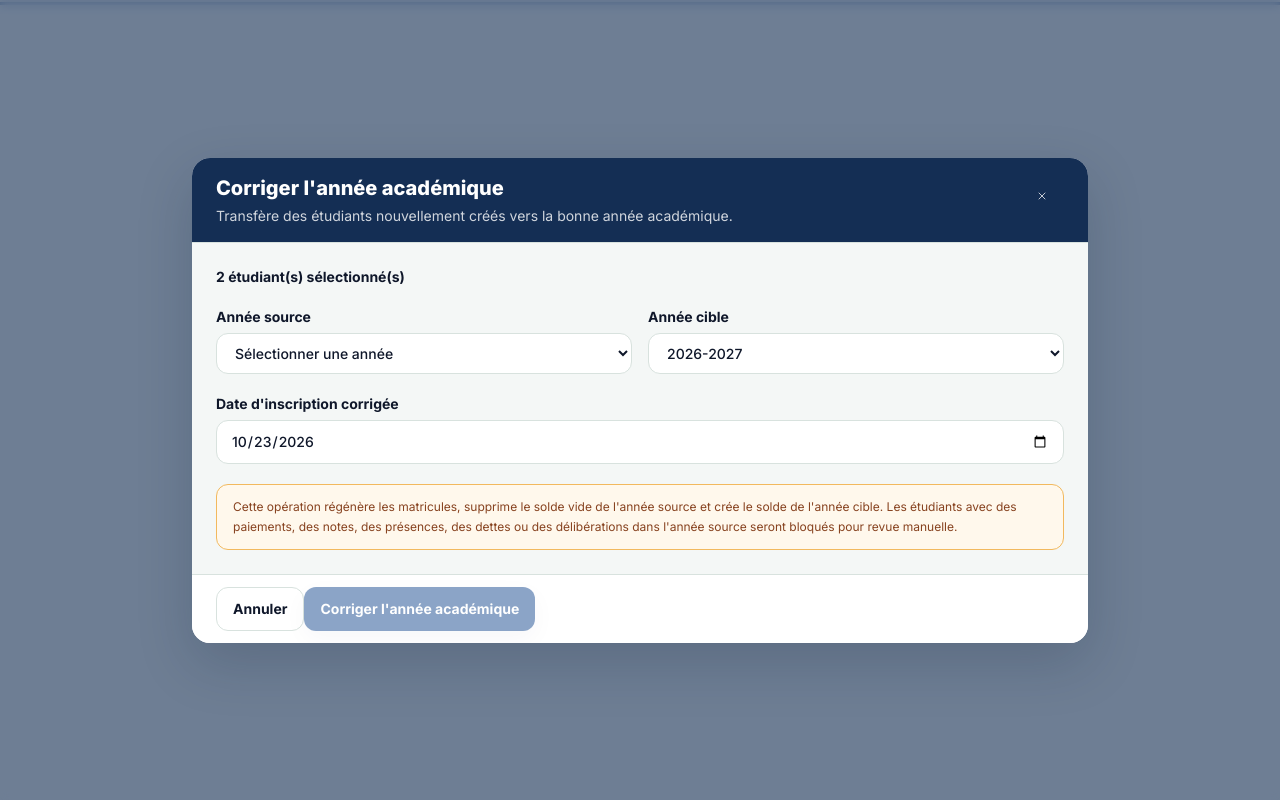
Scenario: AcademicYearCorrectionModal › keeps confirmation disabled while the request is pending
Expected: the dropdown labelled "Année cible" shows "2026-2027", [648,332,1064,374]
Select "2025-2026" in the dropdown labelled "Année source" at [424, 353], box [216,332,632,374]
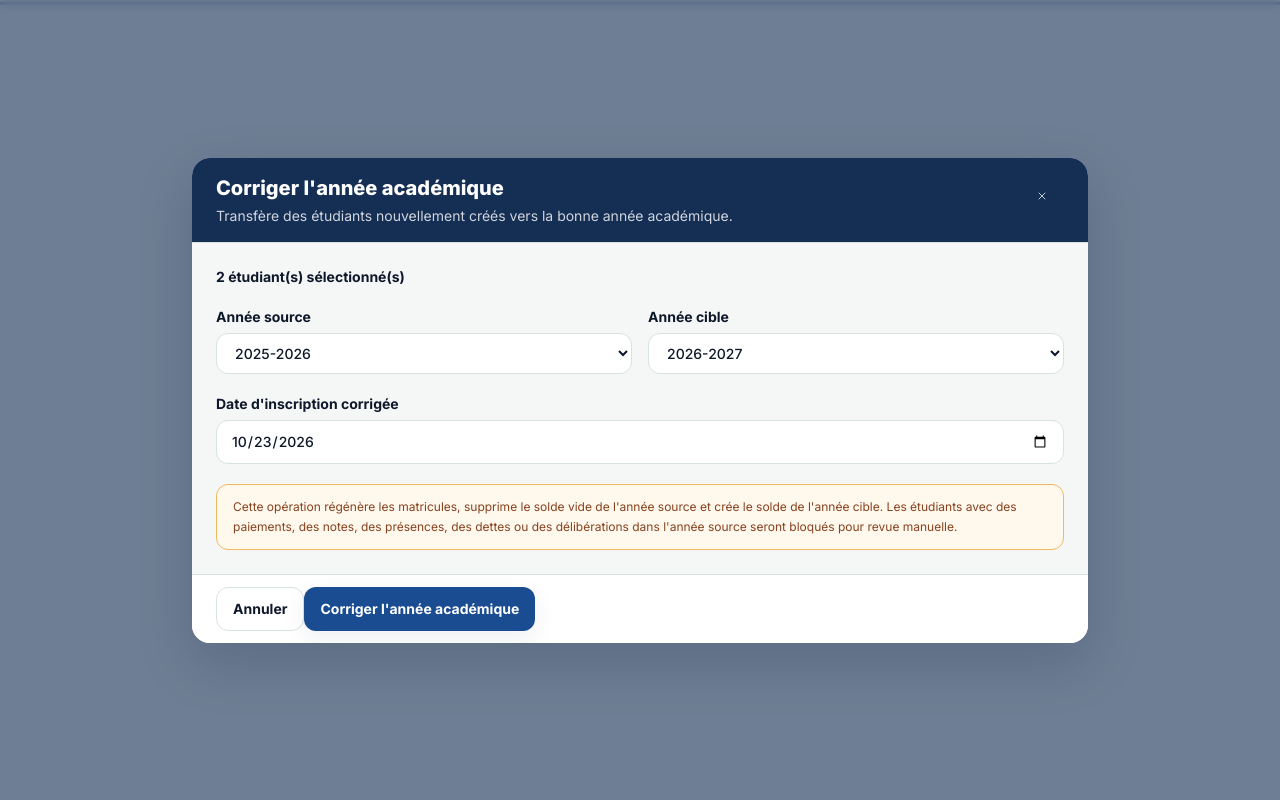
Type "2026-10-22" into the date field labelled "Date d'inscription corrigée".
click(640, 442); type("2026-10-22")  # box [216,420,1064,464]
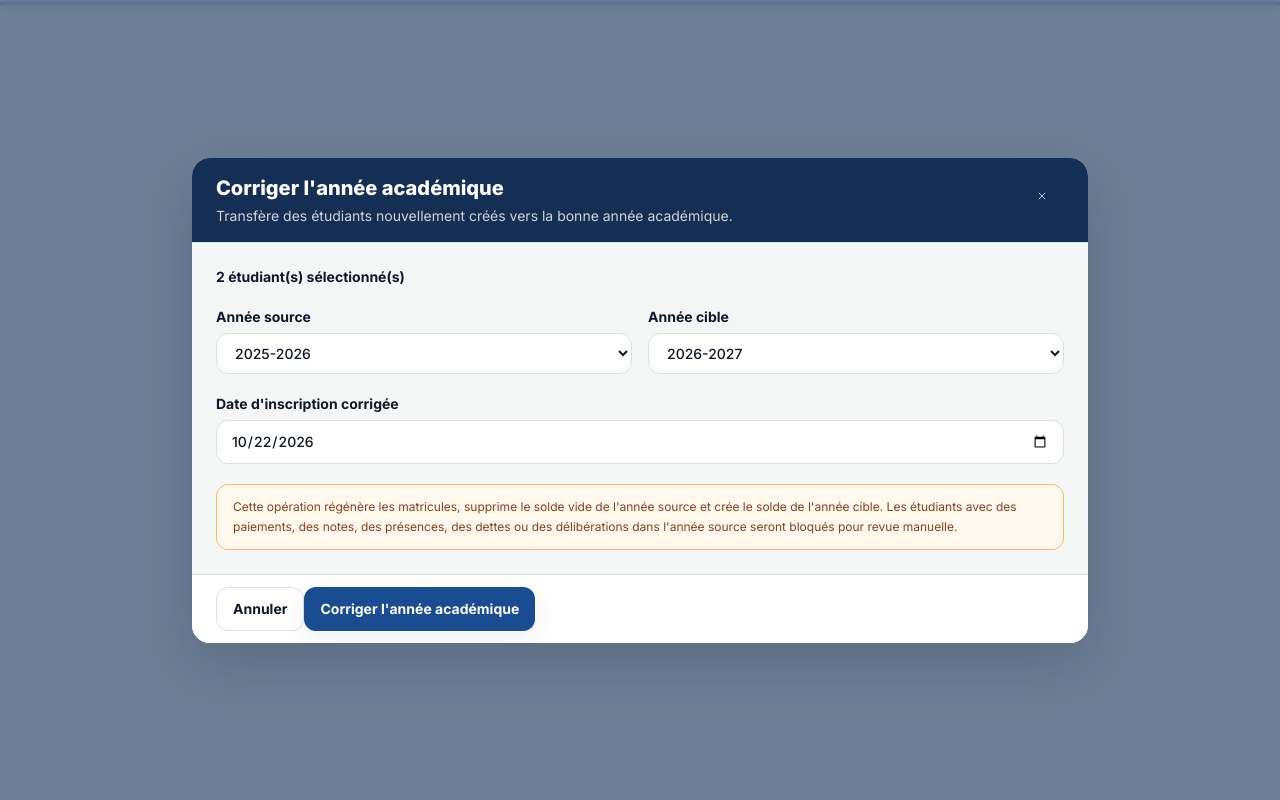
Click the button "Corriger l'année académique".
click(420, 608)  # box [304,586,535,630]
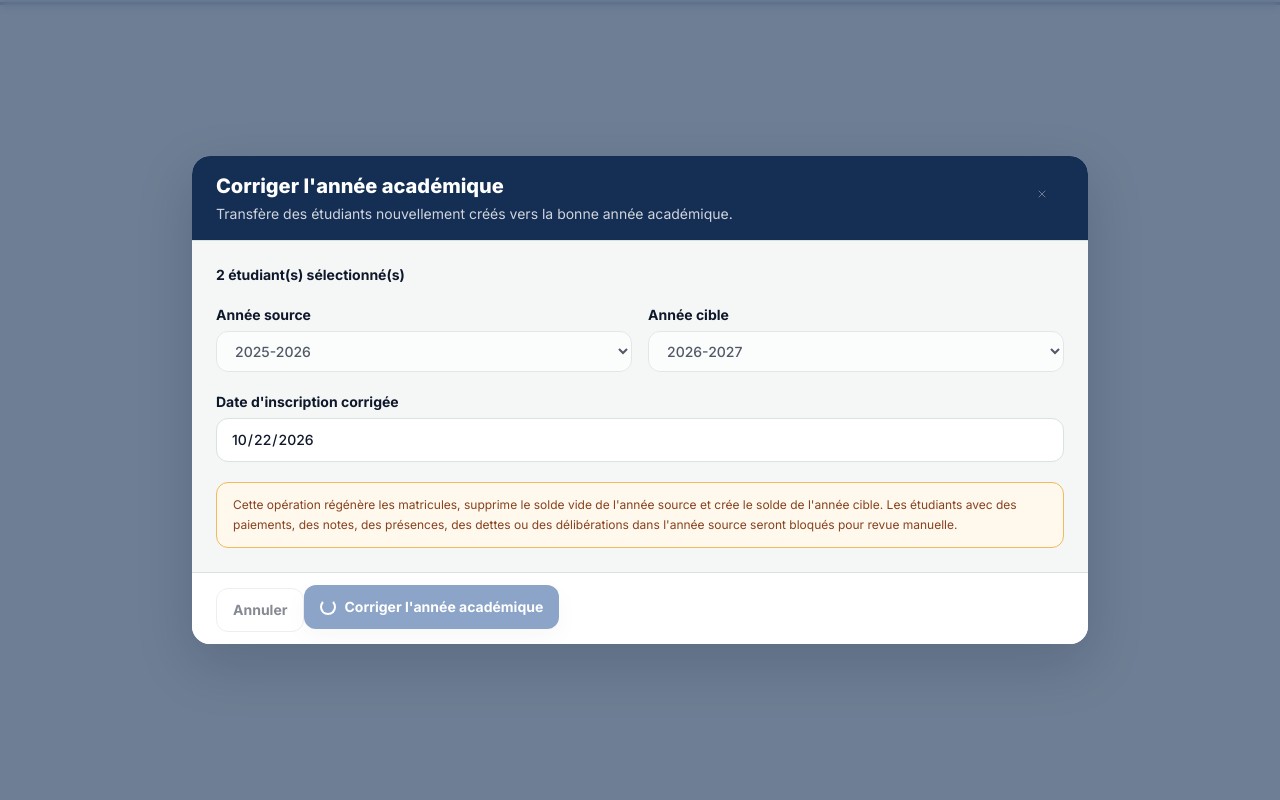
Now the button "Corriger l'année académique" is disabled, box [304,585,559,629]
